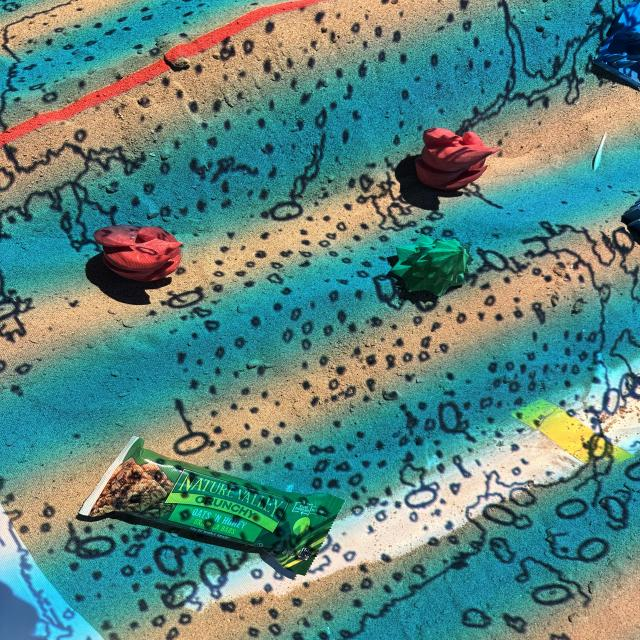fire: (93, 224, 186, 285), (421, 125, 494, 192)
house: (584, 0, 640, 91)
tree: (404, 232, 473, 298)
